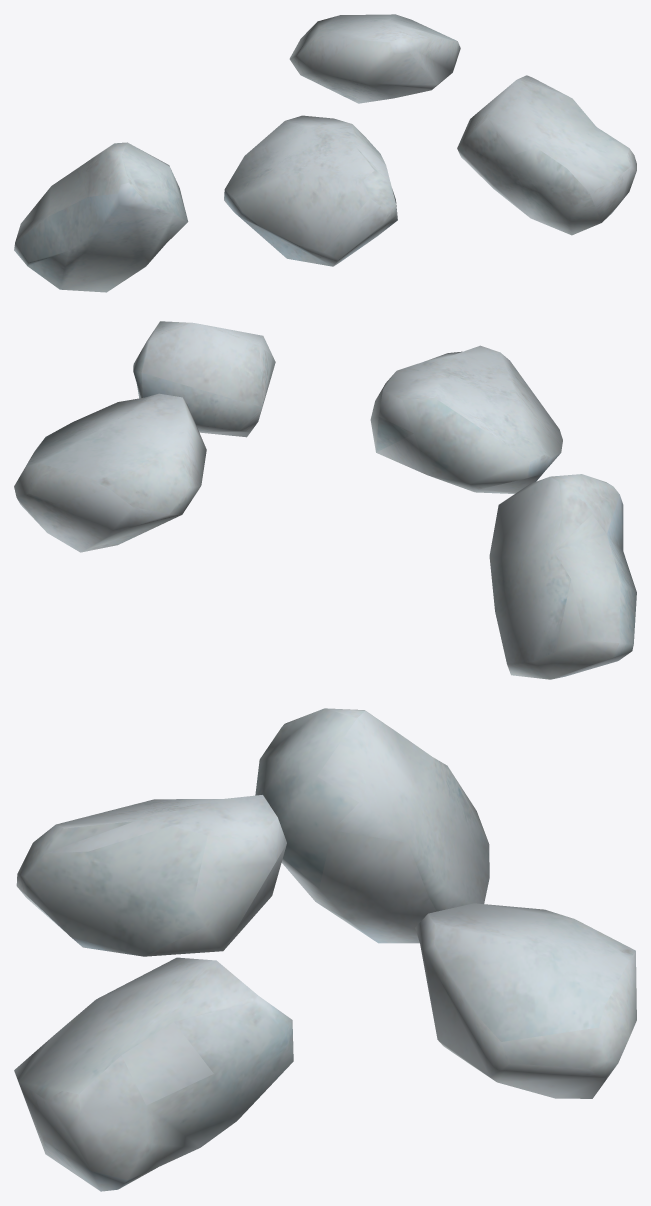
Rendered from P_RockDesert_Clump01.obj.
The picture shows the model from 3 angles, top to bottom: view 1: azimuth 30°, elevation 25°; view 2: azimuth 150°, elevation 25°; view 3: azimuth 270°, elevation 25°; orthographic projection. The views are drawn at different scales.
Bounding box in the file's own units: 2.79 × 0.8771 × 1.92.
